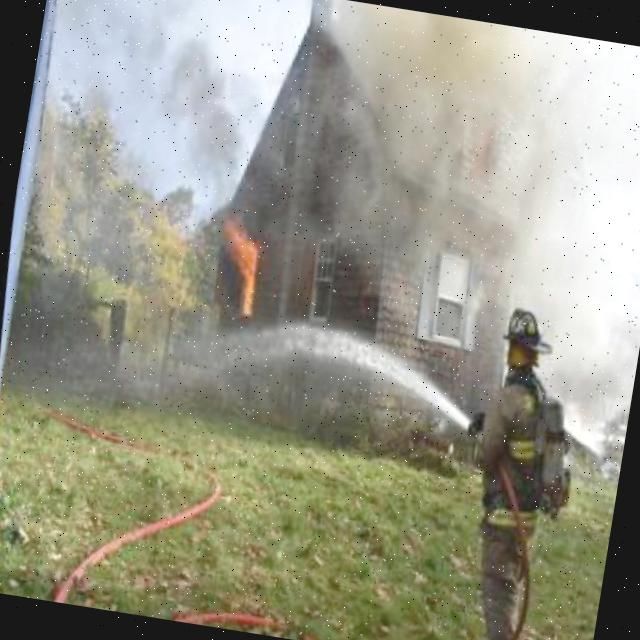fire: (204, 216, 272, 316)
